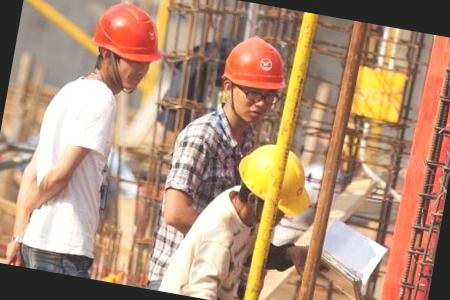helmet: (83, 0, 174, 77), (214, 28, 297, 106)
no_vest: (13, 65, 130, 272), (171, 184, 282, 300)
person: (0, 0, 175, 282), (145, 19, 291, 300), (178, 127, 322, 300)
